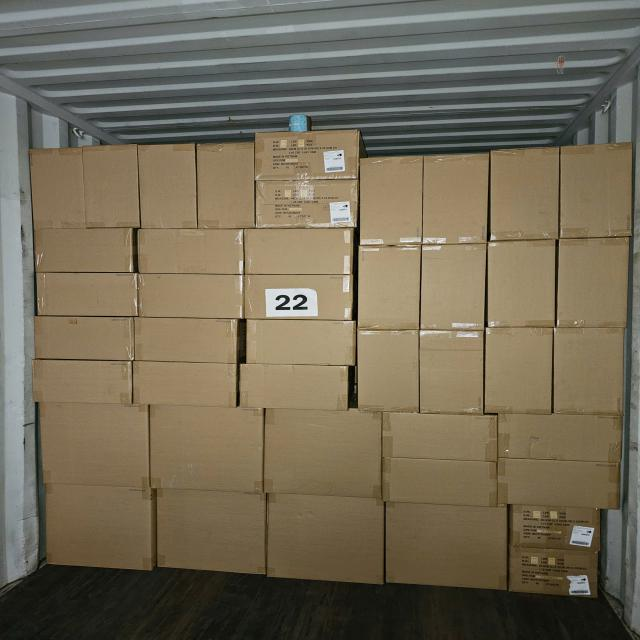Carton: (27, 152, 130, 278), (264, 494, 383, 590), (386, 501, 508, 594), (261, 407, 384, 498), (143, 403, 262, 492), (48, 486, 158, 576), (38, 400, 151, 487), (153, 491, 264, 578), (507, 508, 604, 602), (560, 146, 632, 243), (553, 325, 628, 415), (556, 236, 629, 327), (500, 413, 626, 465), (499, 460, 625, 512), (493, 148, 562, 242), (254, 130, 358, 191), (485, 326, 553, 416), (425, 154, 491, 246), (487, 240, 555, 328), (383, 412, 502, 462), (419, 328, 484, 417), (421, 244, 486, 331), (362, 156, 424, 247), (382, 459, 497, 508), (354, 244, 418, 329), (358, 329, 421, 414), (245, 321, 356, 368), (244, 231, 354, 278), (244, 274, 354, 321), (237, 362, 349, 408), (198, 141, 256, 228), (136, 274, 244, 320), (140, 231, 247, 277), (135, 319, 242, 365), (134, 359, 239, 405), (138, 142, 194, 228), (34, 224, 134, 272), (34, 272, 136, 318), (87, 147, 141, 231), (34, 319, 134, 364), (30, 358, 129, 402), (509, 510, 602, 555)
